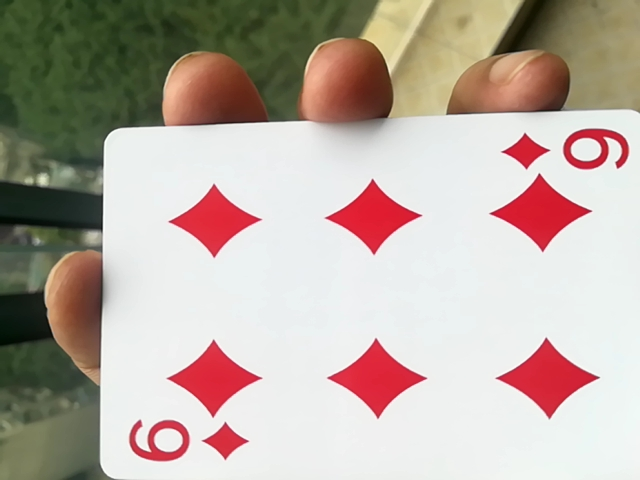fk 6: (79, 128, 636, 480)
